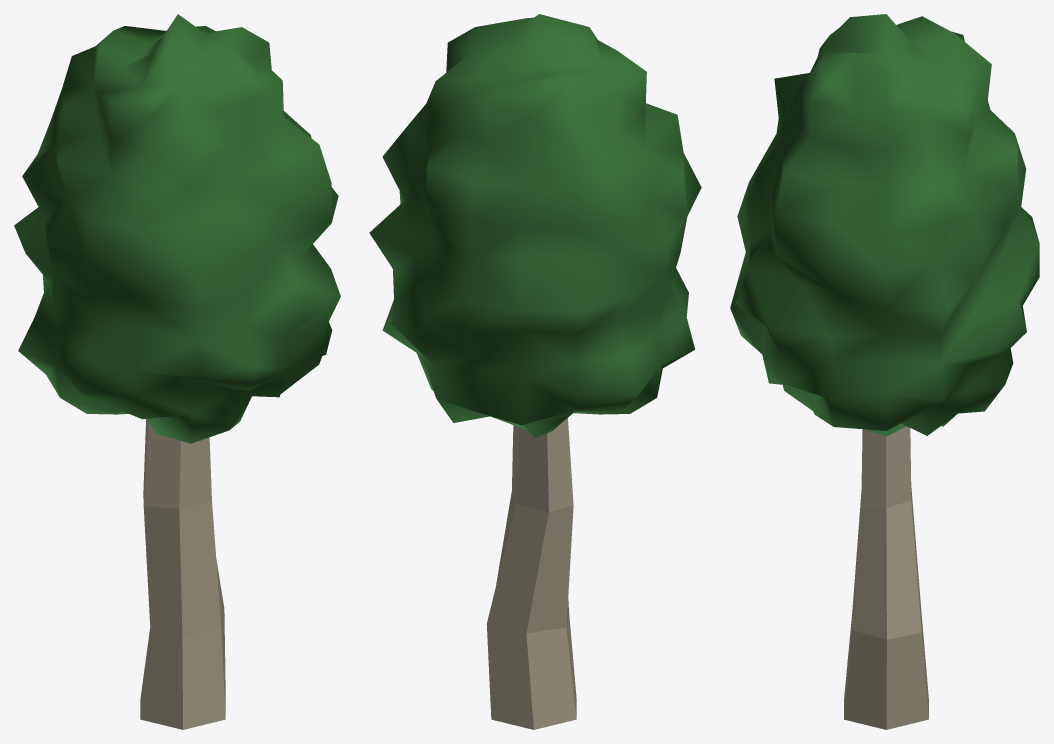
File: tree1.fbx
The picture shows the model from 3 angles, left to right: view 1: azimuth 30°, elevation 25°; view 2: azimuth 150°, elevation 25°; view 3: azimuth 270°, elevation 25°; orthographic projection.
Parts seen in each view (by area): view 1: pCube1, pCylinder1; view 2: pCube1, pCylinder1; view 3: pCube1, pCylinder1.
Part boxes in pixels (box(x1,y1,x2,y2)): pCube1: box(14, 14, 340, 443); pCylinder1: box(140, 419, 225, 729); pCube1: box(369, 14, 701, 437); pCylinder1: box(486, 418, 576, 729); pCube1: box(730, 14, 1039, 436); pCylinder1: box(844, 426, 928, 729).
Bounding box in the file's own units: 6.37 × 15.61 × 6.32.
